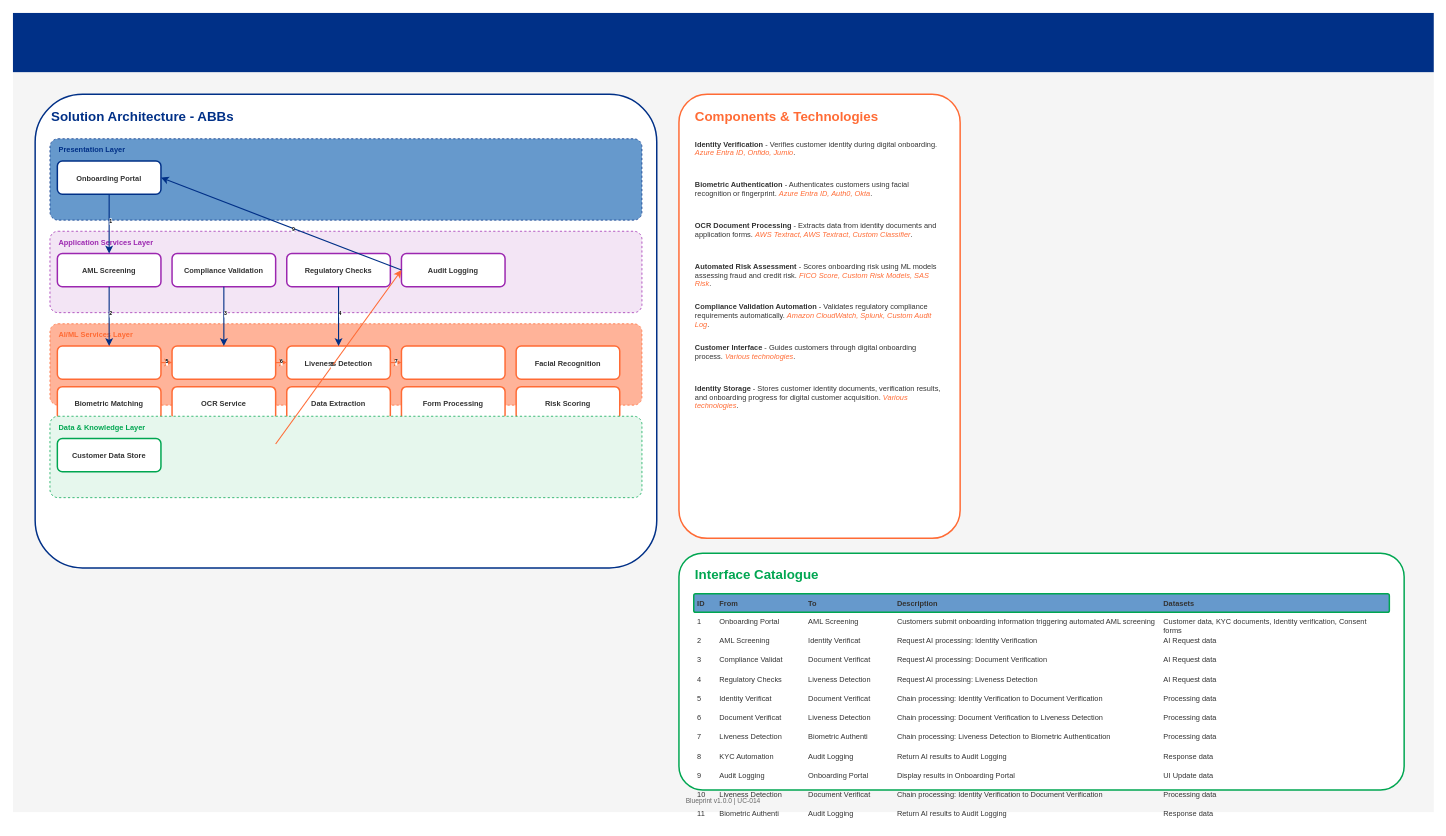
Some shapes in this 1446 by 836 pixel diagram are drawn without their labels. The centre of each missing label's shape, as x and y in pixels:
"Biometric Authentication" belongs at point (452, 362).
"Document Verification" belongs at point (223, 362).
"Identity Verification" belongs at point (108, 362).
"Use Case Blueprint: UC-014 Onboarding" belongs at point (723, 42).
